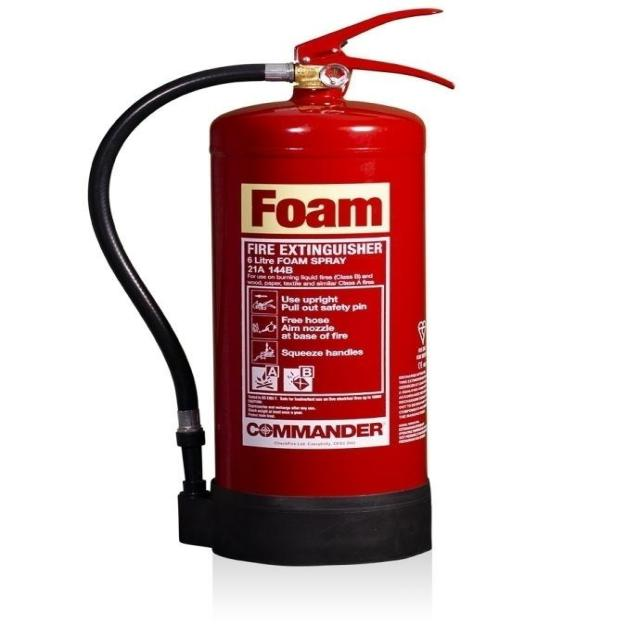fire_extinguisher: (81, 5, 462, 570)
